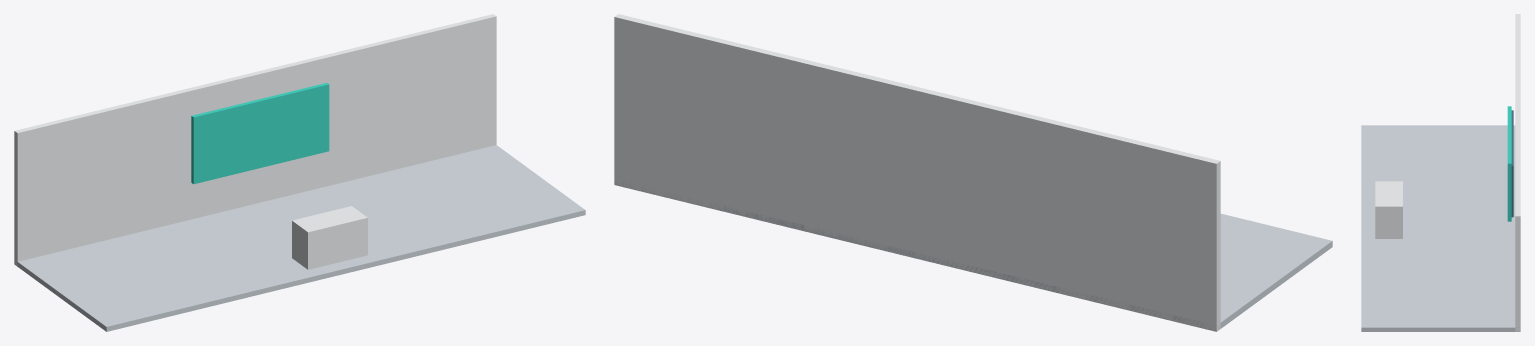
3 renders of one model, left to right at view 1: azimuth 30°, elevation 25°; view 2: azimuth 150°, elevation 25°; view 3: azimuth 270°, elevation 25°, orthographic. The views are drawn at different scales.
Visible parts, largest first — view 1: Exhibition Booth Concept; view 2: Exhibition Booth Concept; view 3: Exhibition Booth Concept.
Boxes of the visible parts, box(x1,y1,x2,y2) form: Exhibition Booth Concept: box(14, 14, 585, 331); Exhibition Booth Concept: box(614, 14, 1332, 331); Exhibition Booth Concept: box(1361, 14, 1520, 331).
Size of the model in its own units: 12 by 3.2 by 4.
